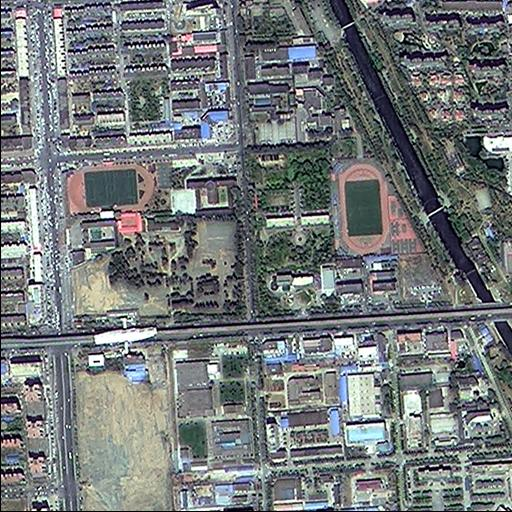school: (240, 42, 421, 257), (65, 148, 242, 218), (59, 210, 119, 269)
